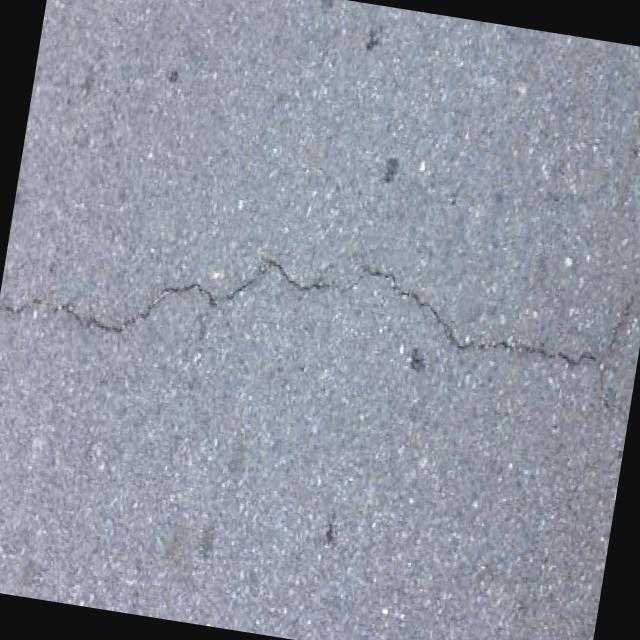Retak-Melintang: (1, 253, 598, 371)
